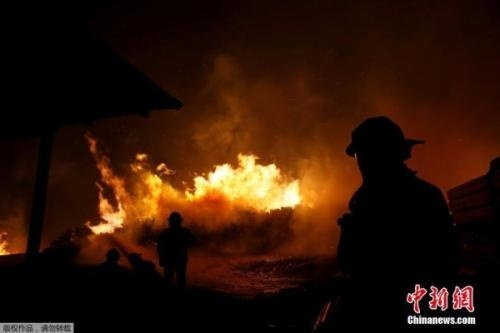fire: (82, 143, 309, 227)
